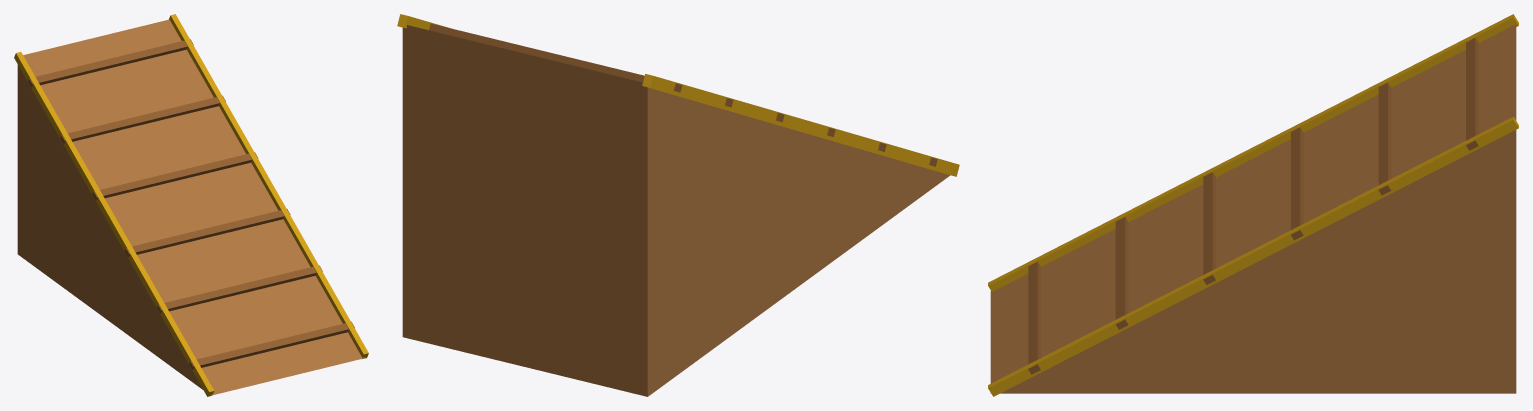
File: ramp.glb
The picture shows the model from 3 angles, left to right: view 1: azimuth 30°, elevation 25°; view 2: azimuth 150°, elevation 25°; view 3: azimuth 270°, elevation 25°; orthographic projection. The views are drawn at different scales.
Parts seen in each view (by area): view 1: ramp; view 2: ramp; view 3: ramp.
Part boxes in pixels (x1,y1,x2,y2): ramp: (14, 14, 368, 396); ramp: (397, 14, 959, 396); ramp: (988, 14, 1518, 396).
Bounding box in the file's own units: 1.88 × 2.27 × 3.94.
